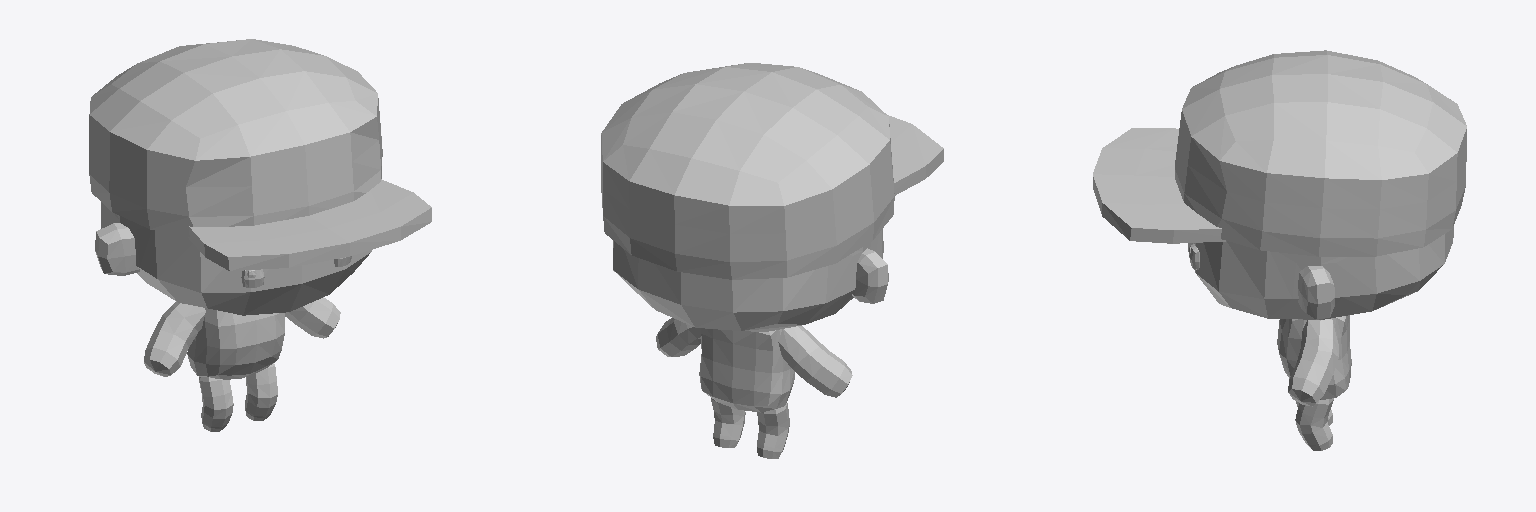
File: jump_0010.obj
3 renders of one model, left to right at view 1: azimuth 30°, elevation 25°; view 2: azimuth 150°, elevation 25°; view 3: azimuth 270°, elevation 25°, orthographic.
Parts seen in each view (by area): view 1: Object_41, Object_42, Object_44, Object_36; view 2: Object_41, Object_36, Object_44, Object_42; view 3: Object_41, Object_36, Object_42, Object_44.
Part boxes in pixels (x1,y1,x2,y2): Object_41: (89,39,382,236); Object_42: (186,117,431,270); Object_44: (144,297,340,431); Object_36: (95,202,371,315); Object_41: (601,63,894,279); Object_36: (613,229,888,331); Object_44: (656,318,852,458); Object_42: (888,115,943,195); Object_41: (1182,50,1466,256); Object_36: (1188,226,1453,319); Object_42: (1093,111,1226,243); Object_44: (1277,315,1351,450).
Bounding box in the file's own units: 0.9691 × 1.21 × 1.13.